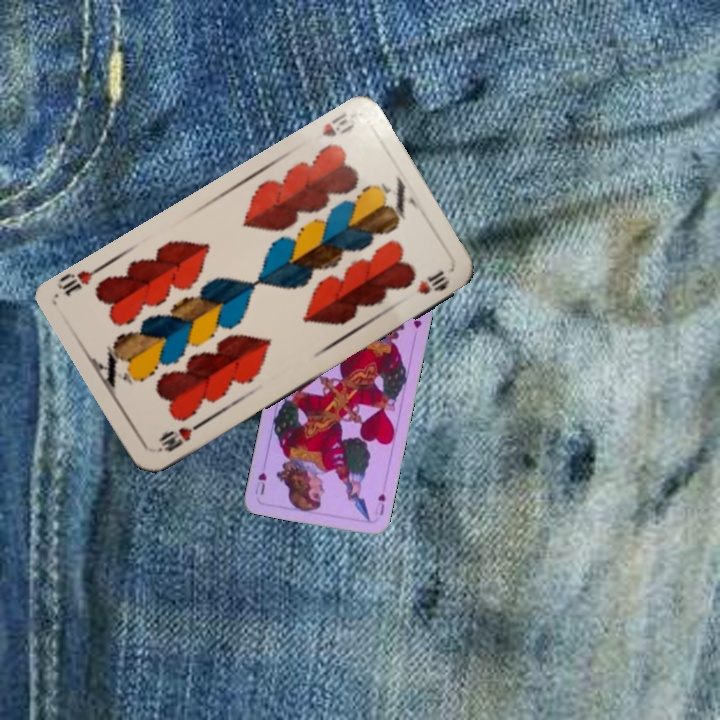H10: (153, 418, 205, 455), (318, 108, 358, 140)
HU: (371, 490, 388, 518)
